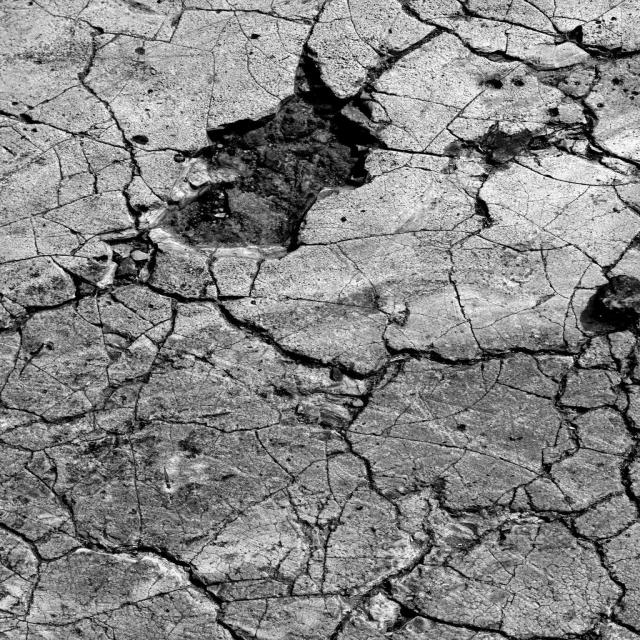Pothole: (64, 38, 610, 527)
